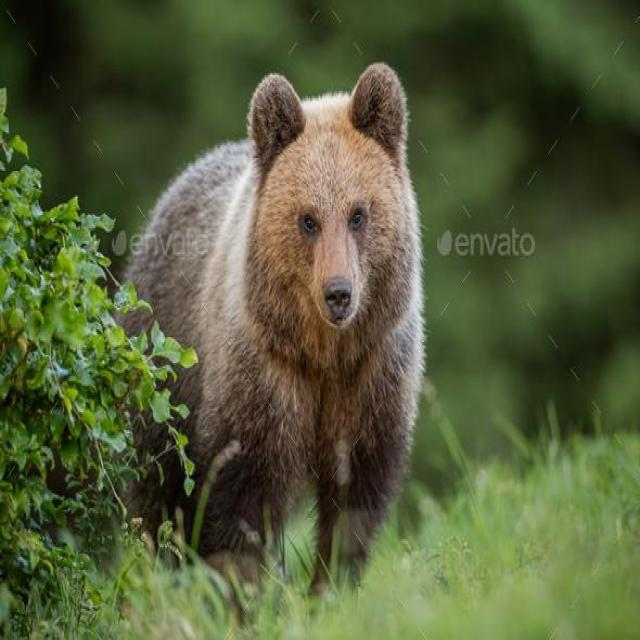Bear: (128, 62, 426, 598)
